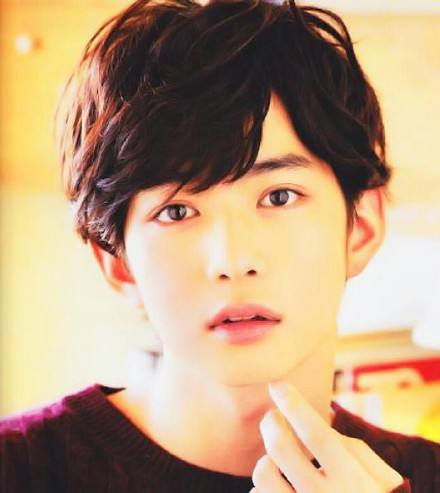person: (73, 20, 389, 493)
